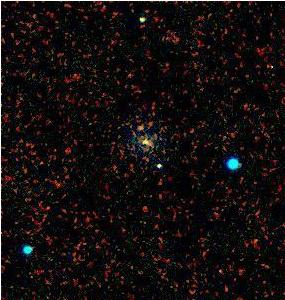star: (121, 108, 151, 138)
